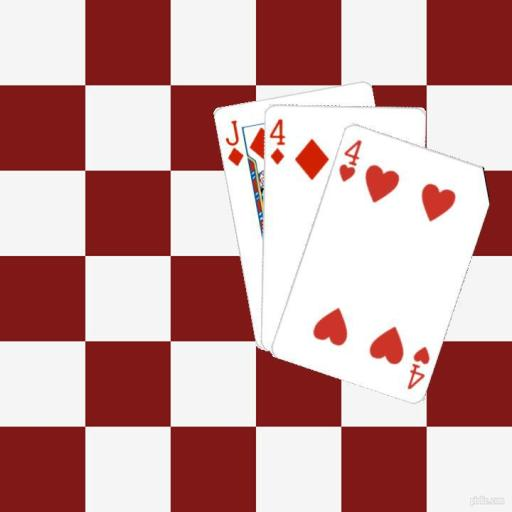4D: (266, 115, 286, 166)
4H: (335, 136, 363, 183), (403, 343, 431, 390)
JD: (222, 117, 245, 168)
